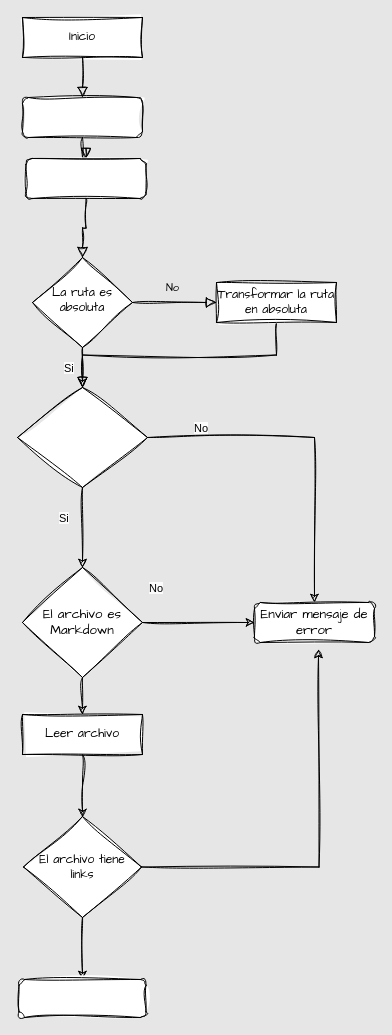
This 392x1035 diagram has some shape labels left out. Each missing label, with the centre of its shape:
Extraer los links: (82,998)
Ingresar Ruta: (85,178)
La ruta existe en el ordenador: (82,437)
Promesa: (82,117)
